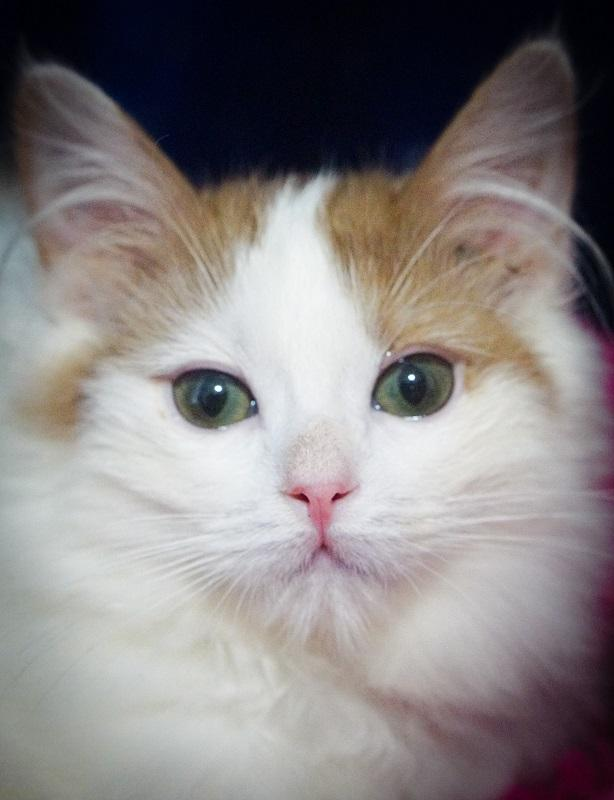ragdoll: (1, 32, 614, 645)
